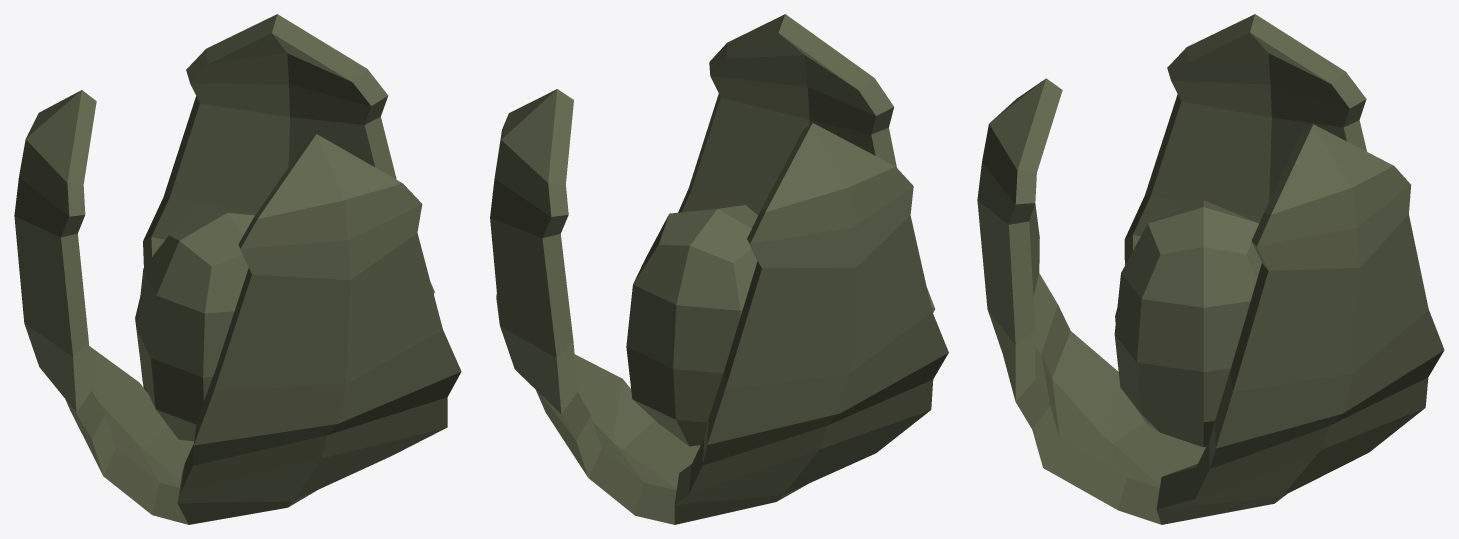
File: Lettuce_2.gltf
The picture shows the model from 3 angles, left to right: view 1: azimuth 30°, elevation 25°; view 2: azimuth 150°, elevation 25°; view 3: azimuth 270°, elevation 25°; orthographic projection.
Visible parts, largest first — view 1: Lettuce_2; view 2: Lettuce_2; view 3: Lettuce_2.
Part boxes in pixels (x1,y1,x2,y2): Lettuce_2: (14, 14, 461, 524); Lettuce_2: (490, 14, 948, 524); Lettuce_2: (977, 14, 1444, 524).
Size of the model in its own units: 0.3689 by 0.354 by 0.3673.
